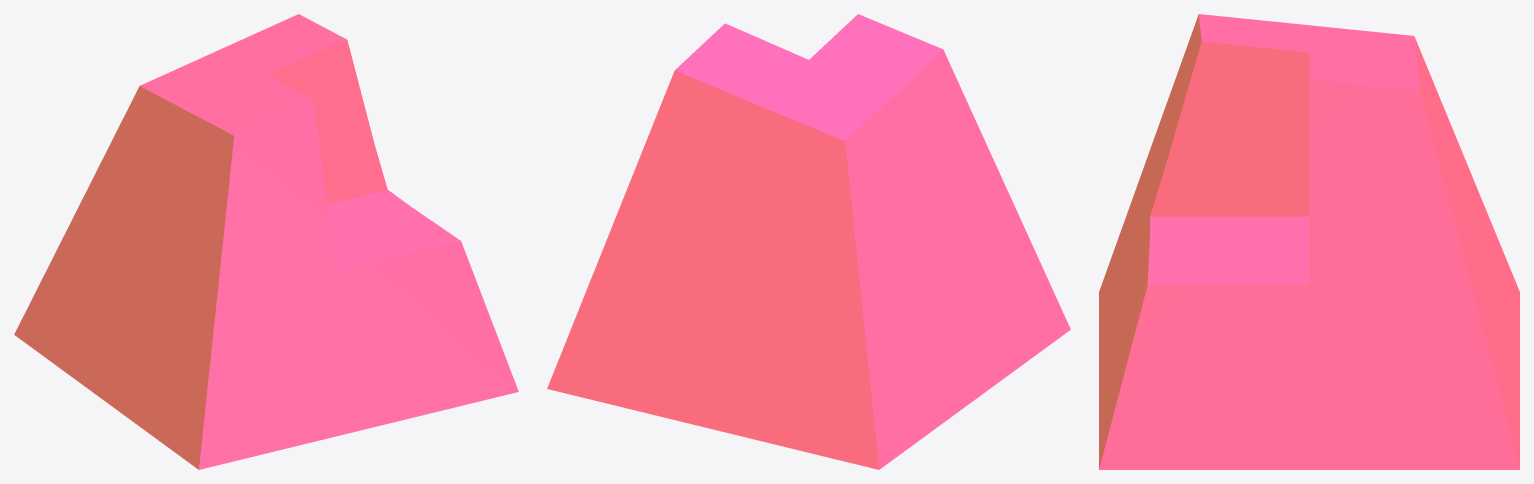
Rendered from base-missing.fbx.
3 views of the same model, side by side, from view 1: azimuth 30°, elevation 25°; view 2: azimuth 150°, elevation 25°; view 3: azimuth 270°, elevation 25° (orthographic). The views are drawn at different scales.
Parts seen in each view (by area): view 1: pCube3; view 2: pCube3; view 3: pCube3.
Part boxes in pixels (x1=…): pCube3: x1=14, y1=14, x2=518, y2=469; pCube3: x1=547, y1=14, x2=1070, y2=469; pCube3: x1=1099, y1=14, x2=1519, y2=469.
Bounding box in the file's own units: 10 × 9.08 × 10.
